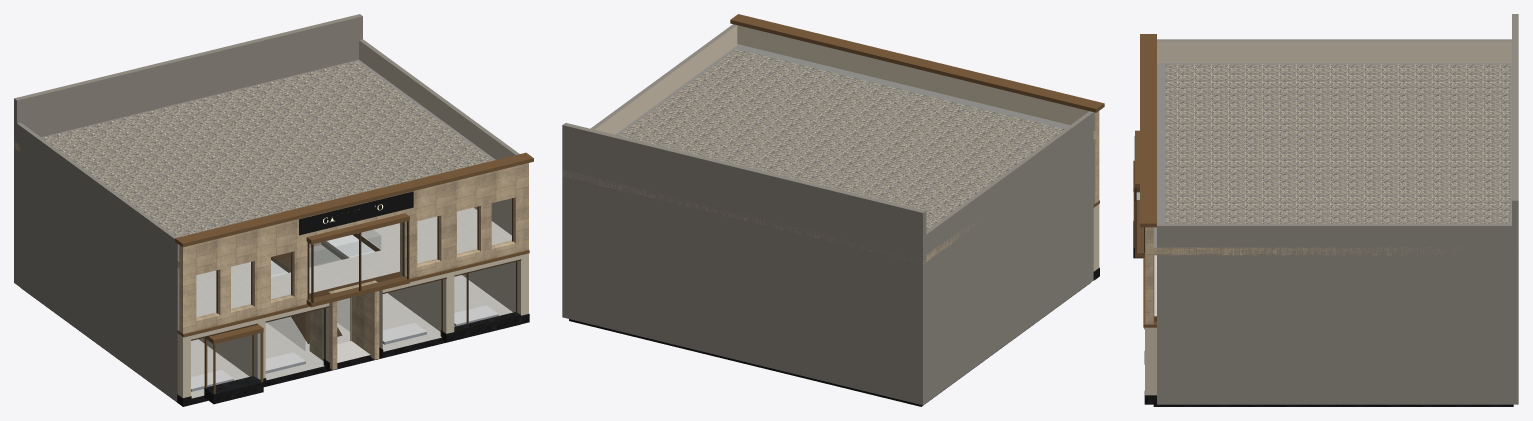
File: galerie_dor_LOD2.fbx
3 views of the same model, side by side, from view 1: azimuth 30°, elevation 25°; view 2: azimuth 150°, elevation 25°; view 3: azimuth 270°, elevation 25° (orthographic). The views are drawn at different scales.
Visible parts, largest first — view 1: B04_LOD2_BUILDING_EXTERIOR_Stone, B04_LOD2_BUILDING_EXTERIOR_Roof, B04_LOD2_BUILDING_EXTERIOR_RearInterface, B04_LOD2_BUILDING_INTERIOR_GroundSlab, B04_LOD2_FACADE_DETAILS_Bronze, B04_LOD2_BUILDING_INTERIOR_Slabs, B04_LOD2_BUILDING_INTERIOR_Partitions, B04_LOD2_DISPLAY_OBJECTS_Fashion, B04_LOD2_SIGNAGE_Brand, B04_LOD2_FACADE_DETAILS_BayWindow, B04_LOD2_BUILDING_INTERIOR_HallGlass, B04_LOD2_GLASS_SYSTEM_BayWinFrame (+3 smaller); view 2: B04_LOD2_BUILDING_EXTERIOR_Stone, B04_LOD2_BUILDING_EXTERIOR_Roof, B04_LOD2_BUILDING_EXTERIOR_RearInterface, B04_LOD2_FACADE_DETAILS_Bronze, B04_LOD2_BUILDING_INTERIOR_GroundSlab; view 3: B04_LOD2_BUILDING_EXTERIOR_Stone, B04_LOD2_BUILDING_EXTERIOR_Roof, B04_LOD2_FACADE_DETAILS_Bronze, B04_LOD2_BUILDING_EXTERIOR_RearInterface, B04_LOD2_BUILDING_INTERIOR_GroundSlab, B04_LOD2_FACADE_DETAILS_BayWindow.
Part boxes in pixels (x1,y1,x2,y2): B04_LOD2_BUILDING_EXTERIOR_Stone: (14,39,529,406); B04_LOD2_BUILDING_EXTERIOR_Roof: (14,59,528,271); B04_LOD2_BUILDING_EXTERIOR_RearInterface: (14,14,362,282); B04_LOD2_BUILDING_INTERIOR_GroundSlab: (21,245,520,406); B04_LOD2_FACADE_DETAILS_Bronze: (175,152,533,404); B04_LOD2_BUILDING_INTERIOR_Slabs: (196,207,511,317); B04_LOD2_BUILDING_INTERIOR_Partitions: (198,241,440,376); B04_LOD2_DISPLAY_OBJECTS_Fashion: (191,305,498,391); B04_LOD2_SIGNAGE_Brand: (299,191,413,235); B04_LOD2_FACADE_DETAILS_BayWindow: (306,213,409,307); B04_LOD2_BUILDING_INTERIOR_HallGlass: (268,242,349,349); B04_LOD2_GLASS_SYSTEM_BayWinFrame: (307,221,409,302); B04_LOD2_BUILDING_EXTERIOR_Stone: (562,24,1099,405); B04_LOD2_BUILDING_EXTERIOR_Roof: (562,44,1095,263); B04_LOD2_BUILDING_EXTERIOR_RearInterface: (562,123,926,402); B04_LOD2_FACADE_DETAILS_Bronze: (730,14,1104,207); B04_LOD2_BUILDING_INTERIOR_GroundSlab: (569,283,1090,406); B04_LOD2_BUILDING_EXTERIOR_Stone: (1144,39,1518,404); B04_LOD2_BUILDING_EXTERIOR_Roof: (1145,63,1517,255); B04_LOD2_FACADE_DETAILS_Bronze: (1133,34,1156,329); B04_LOD2_BUILDING_EXTERIOR_RearInterface: (1512,14,1518,280); B04_LOD2_BUILDING_INTERIOR_GroundSlab: (1153,404,1513,406); B04_LOD2_FACADE_DETAILS_BayWindow: (1135,130,1144,257).
Size of the model in its own units: 26.4 by 22.7 by 13.55.
